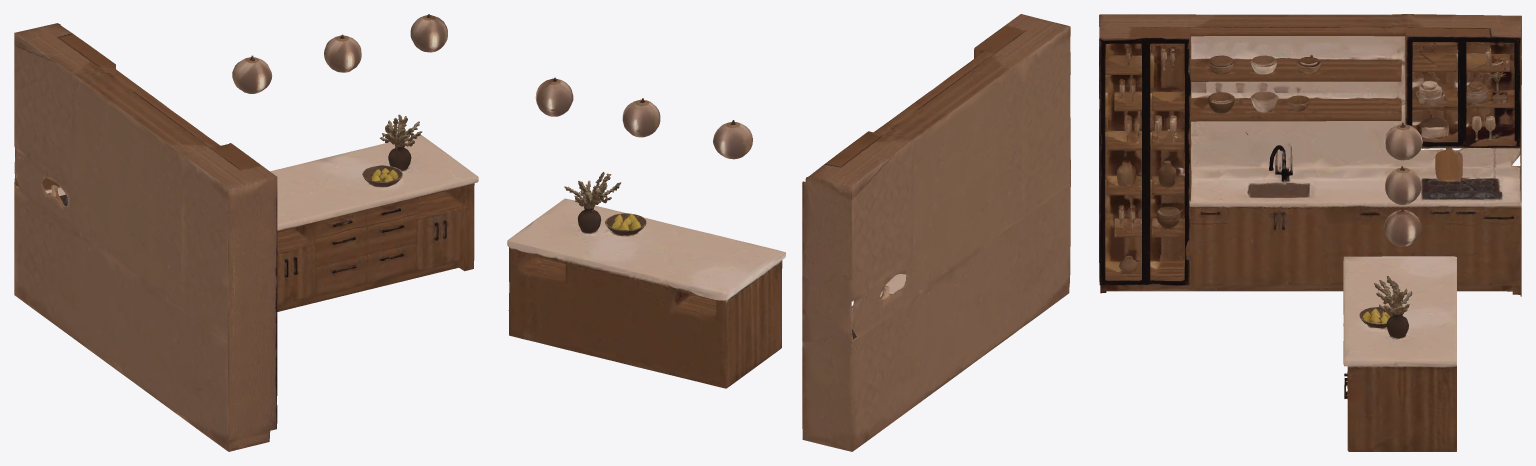
Rendered from Meshy_AI_Warm_Walnut_Kitchen_0829140615_texture.glb.
The picture shows the model from 3 angles, left to right: view 1: azimuth 30°, elevation 25°; view 2: azimuth 150°, elevation 25°; view 3: azimuth 270°, elevation 25°; orthographic projection. The views are drawn at different scales.
Parts seen in each view (by area): view 1: mesh_node; view 2: mesh_node; view 3: mesh_node.
Boxes of the visible parts, left/top/right/bottom form: mesh_node: left=14, top=14, right=478, bottom=451; mesh_node: left=507, top=14, right=1070, bottom=451; mesh_node: left=1099, top=14, right=1521, bottom=451.
Size of the model in its own units: 3.57 by 2.4 by 3.54.
Materials: 1 (1 with a texture image).
